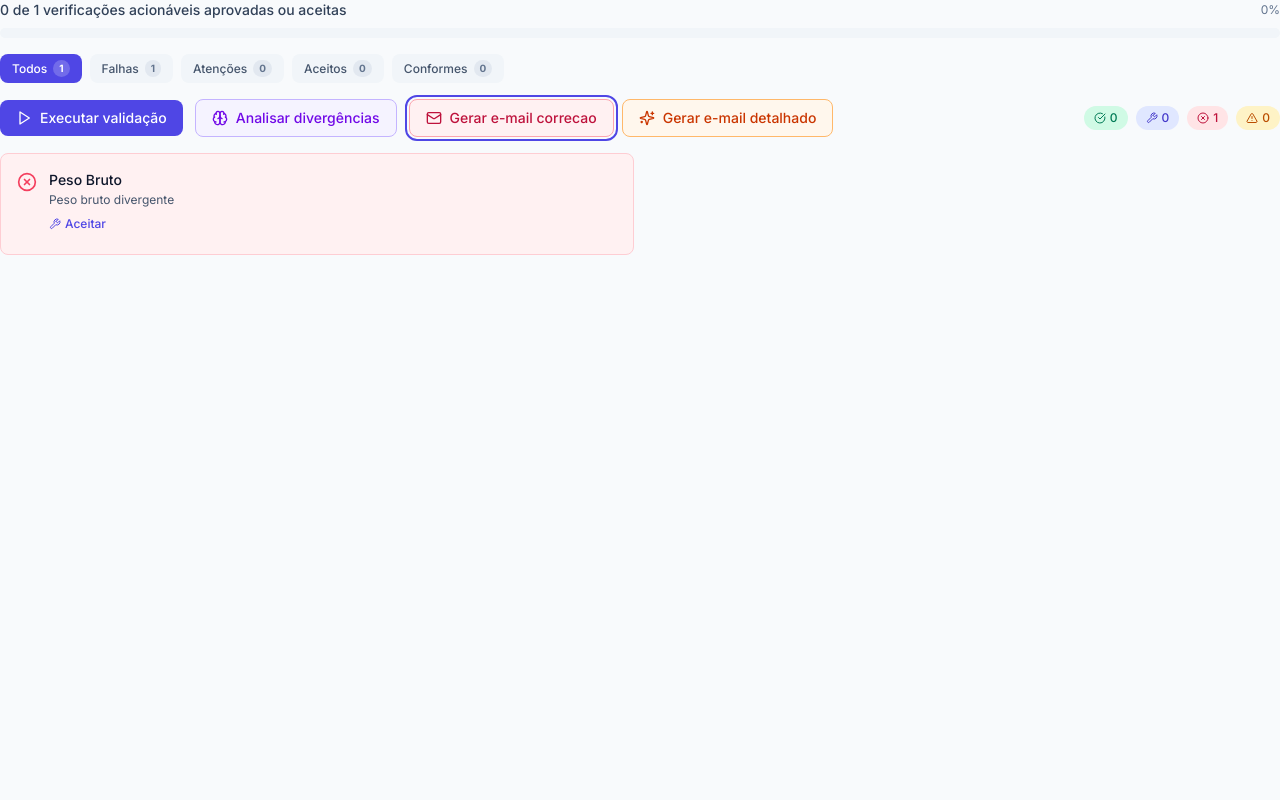
Scenario: ValidationChecklist › focuses the draft modal, closes it with Escape and restores opener focus
This screenshot has width=1280, height=800.
Click the button "Gerar e-mail correcao" at (511, 118), box [408,99,614,137]
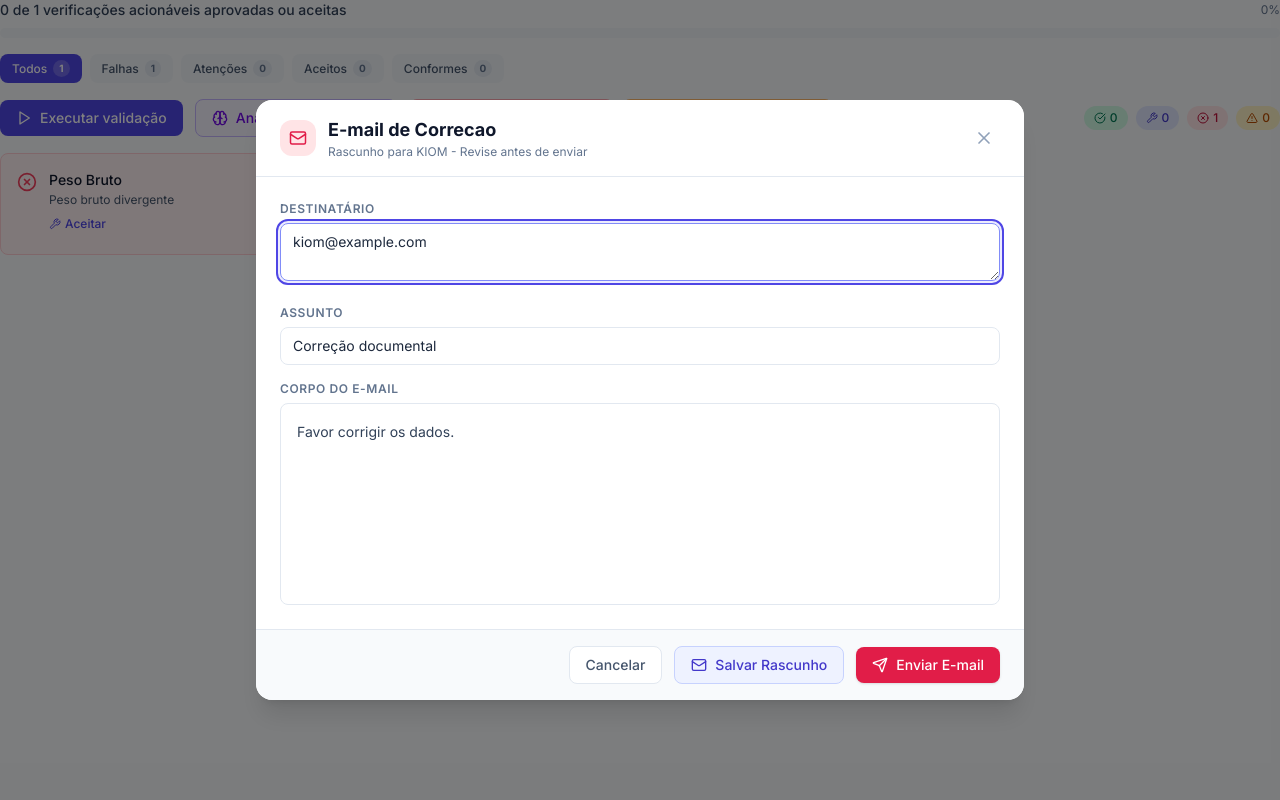
Result: the dialog "E-mail de Correcao" is shown at [256,100,1024,700]
Press Escape
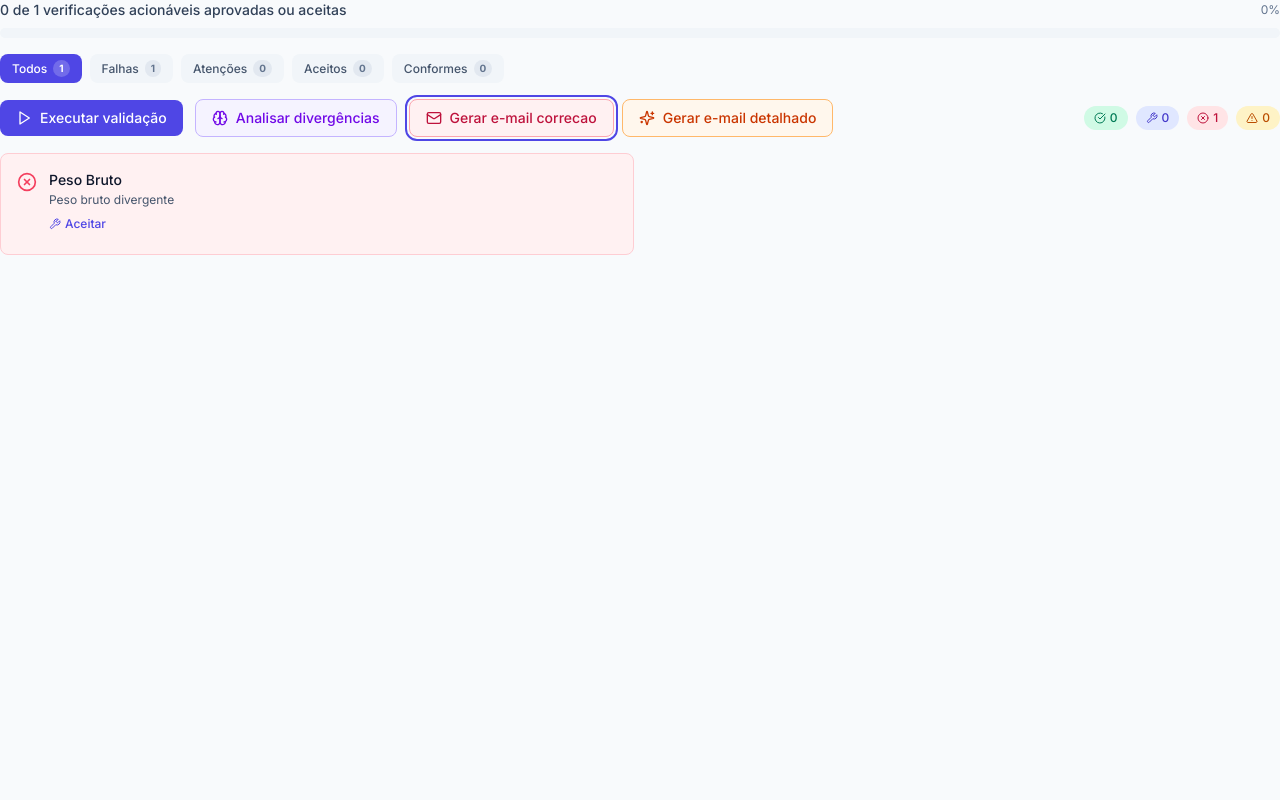
Result: the heading "E-mail de Correcao" is gone
